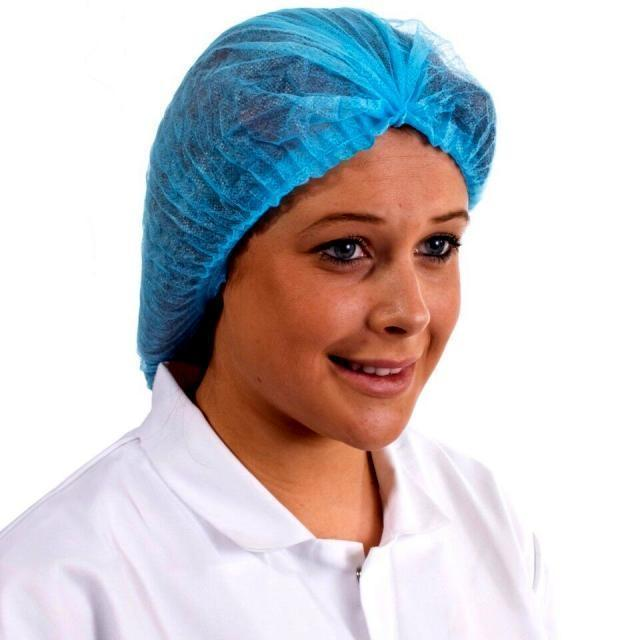gloves: (154, 0, 507, 170)
no_hairnet: (314, 292, 432, 408)
